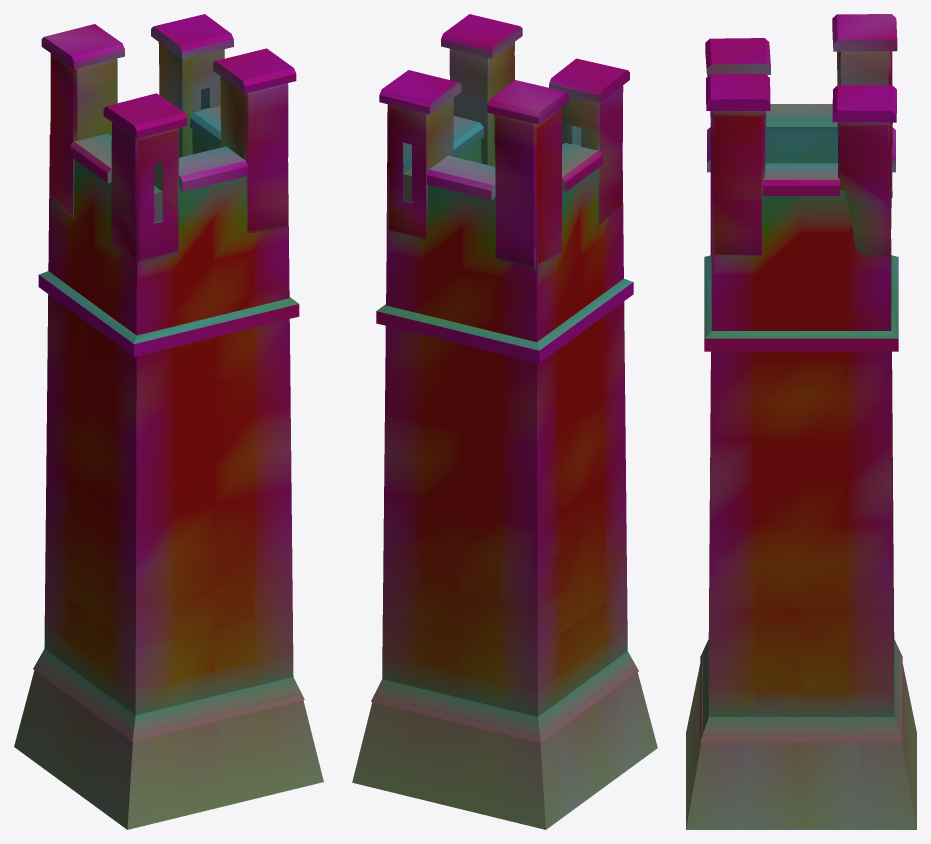
Rendered from wall_high_stub.glb.
3 views of the same model, side by side, from view 1: azimuth 30°, elevation 25°; view 2: azimuth 150°, elevation 25°; view 3: azimuth 270°, elevation 25° (orthographic). The views are drawn at different scales.
Parts seen in each view (by area): view 1: wall_high_stub_LOD0; view 2: wall_high_stub_LOD0; view 3: wall_high_stub_LOD0.
Boxes of the visible parts, x1=… form: wall_high_stub_LOD0: x1=14, y1=14, x2=323, y2=829; wall_high_stub_LOD0: x1=352, y1=14, x2=657, y2=829; wall_high_stub_LOD0: x1=686, y1=14, x2=916, y2=829.
Size of what is drawn, in the model's own units: 0.9 by 3.13 by 0.9.
